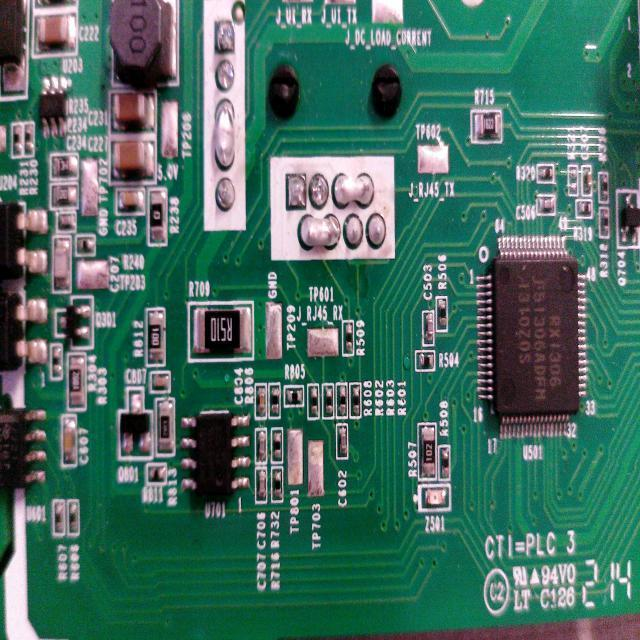Soldering shorted: (210, 99, 243, 174), (292, 212, 342, 255), (332, 168, 376, 212)
